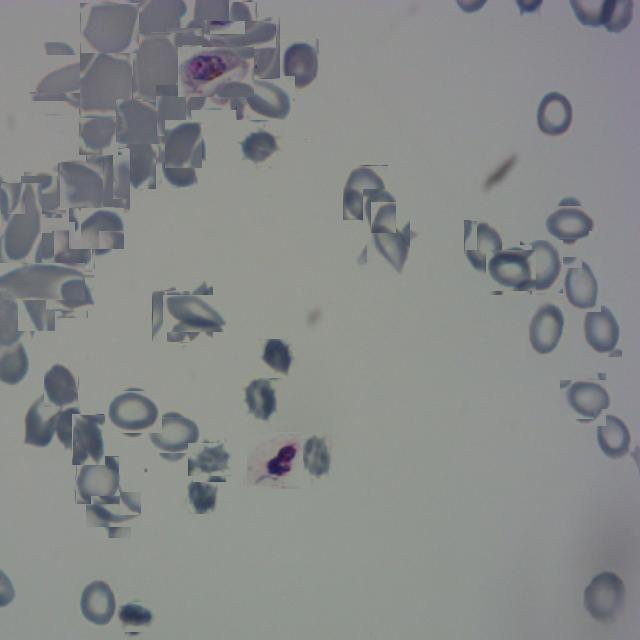difficult: (248, 433, 302, 488)
gametocyte: (184, 40, 248, 104)
leukocyte: (2, 248, 70, 316), (80, 51, 136, 118), (0, 182, 42, 264), (36, 49, 94, 108), (132, 32, 182, 100), (80, 3, 139, 53), (362, 218, 416, 272), (86, 148, 130, 213), (240, 72, 292, 124), (238, 17, 280, 80), (169, 288, 220, 338), (342, 165, 388, 220), (108, 387, 158, 437), (20, 392, 63, 448), (526, 301, 568, 358), (72, 205, 121, 252), (520, 240, 563, 293), (219, 12, 267, 59), (582, 301, 622, 357), (533, 88, 574, 142), (594, 409, 635, 463), (562, 256, 601, 312), (564, 376, 610, 423), (584, 574, 626, 625), (280, 38, 320, 91), (90, 487, 136, 533), (488, 247, 534, 293), (58, 162, 104, 208), (76, 456, 120, 504), (78, 576, 118, 628), (152, 413, 198, 458), (464, 220, 502, 274), (121, 134, 158, 189), (152, 290, 190, 342), (240, 376, 280, 425), (238, 124, 282, 168), (117, 99, 161, 143), (156, 84, 192, 136), (162, 122, 205, 165), (79, 108, 118, 155), (550, 200, 592, 243), (49, 272, 91, 314), (170, 24, 212, 66), (22, 174, 64, 216), (72, 414, 105, 465), (54, 230, 94, 270), (56, 406, 88, 454), (44, 362, 78, 407), (362, 188, 396, 233), (299, 434, 332, 479), (190, 441, 228, 479), (162, 147, 198, 187), (259, 339, 293, 378), (118, 600, 154, 635), (187, 474, 218, 514)
